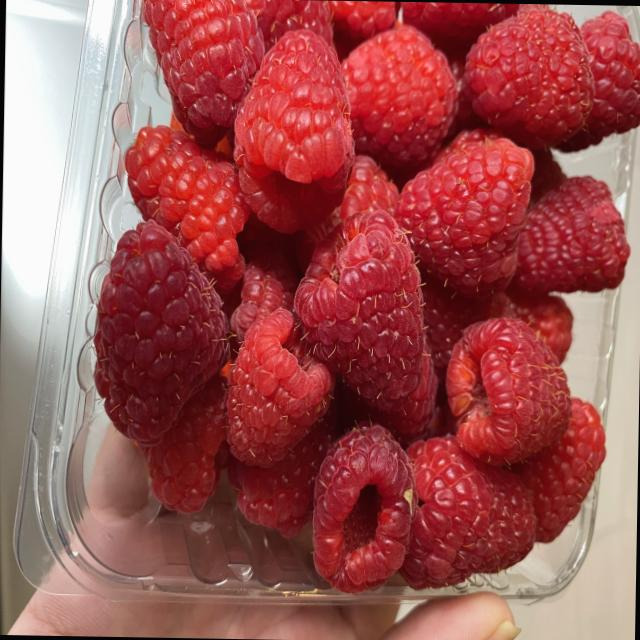raspberries: (57, 0, 638, 591)
